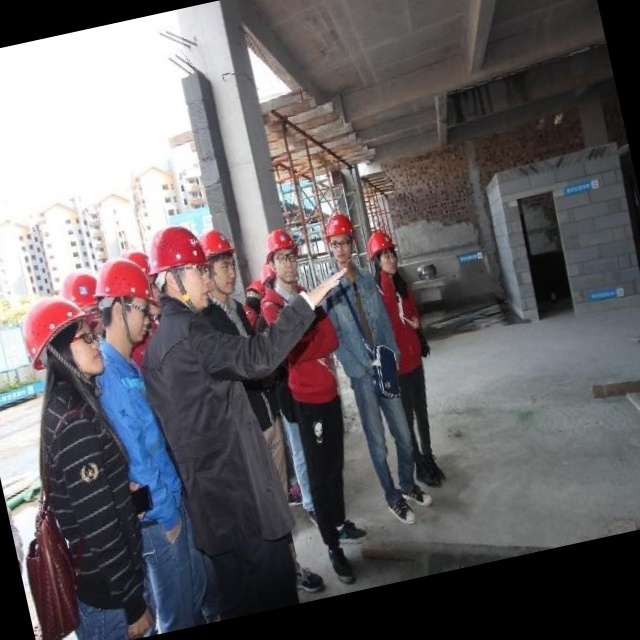Con_Casco: (261, 225, 304, 285), (320, 212, 358, 264)
Con_Chaleco: (363, 226, 399, 279)
